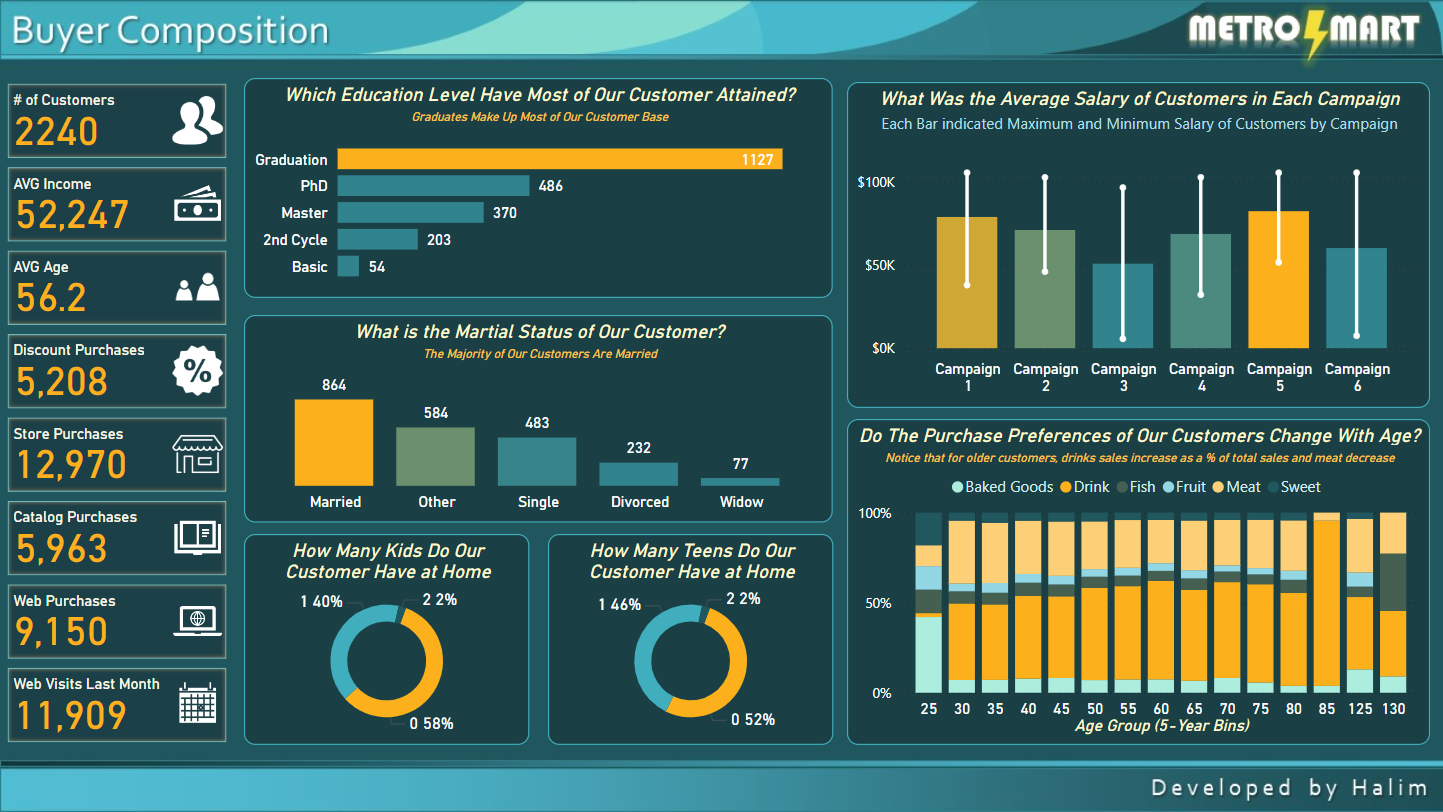

The page's visual inventory and layout, read from the dashboard file:
{"tool":"powerbi","page":{"name":"Buyer Composition","canvas":[1280,720],"ordinal":1},"visuals":[{"type":"barChart","title":"Which Education Level Have Most of Our Customer Attained?","fields":{"Category":["1 2 marketmindz_research_data.Education"],"Y":["CountNonNull(1 2 marketmindz_research_data.ID)"]},"box":[216.4,69.2,522.3,195.1],"z":0},{"type":"columnChart","title":"What Was the Average Salary of Customers in Each Campaign","fields":{"Category":["Campaign.Campaign"],"Y":["Avg(1 2 marketmindz_research_data. Income )"]},"box":[751,72.7,516.9,289.1],"z":1000},{"type":"columnChart","title":"What is the Martial Status of Our Customer?","fields":{"Category":["1 2 marketmindz_research_data.Marital_Status"],"Y":["CountNonNull(1 2 marketmindz_research_data.ID)"]},"box":[216.4,279.3,522.3,184.4],"z":2000},{"type":"donutChart","title":"How Many Kids Do Our Customer Have at Home","fields":{"Y":["CountNonNull(1 2 marketmindz_research_data.ID)"],"Category":["1 2 marketmindz_research_data.Kidhome"]},"box":[216.4,473.5,253,187.1],"z":3000},{"type":"donutChart","title":"How Many Teens Do Our Customer Have at Home","fields":{"Y":["CountNonNull(1 2 marketmindz_research_data.ID)"],"Category":["1 2 marketmindz_research_data.Teenhome"]},"box":[485.9,473.5,253,187.1],"z":4000},{"type":"hundredPercentStackedColumnChart","title":"Do The Purchase Preferences of Our Customers Change With Age?","fields":{"Y":["Sum(Products.Sales)"],"Series":["Products.Product"],"Category":["1 2 marketmindz_research_data.Age (Groups)"]},"box":[751,371.5,516.9,289.1],"z":5000},{"type":"cardVisual","fields":{"Data":["CountNonNull(1 2 marketmindz_research_data.ID)","Avg(1 2 marketmindz_research_data. Income )","Avg(1 2 marketmindz_research_data.Age)","Sum(1 2 marketmindz_research_data.Purchased - Deal)","Sum(1 2 marketmindz_research_data.Purchased - Store)","Sum(1 2 marketmindz_research_data.Purchased - Catalog)","Sum(1 2 marketmindz_research_data.Purchased - Web)","Sum(1 2 marketmindz_research_data.Web Visits Last Month)"]},"box":[1.8,69.2,204.8,595],"z":6000}]}

Visuals, with their boxes in screenshot pixels (x1, y1, x2, y2), scaled from the page's 1280x720 canvas onto the 1443x812 screenshot:
"Which Education Level Have Most of Our Customer Attained?" barChart: BBox(244, 78, 833, 298)
"What Was the Average Salary of Customers in Each Campaign" columnChart: BBox(847, 82, 1429, 408)
"What is the Martial Status of Our Customer?" columnChart: BBox(244, 315, 833, 523)
"How Many Kids Do Our Customer Have at Home" donutChart: BBox(244, 534, 529, 745)
"How Many Teens Do Our Customer Have at Home" donutChart: BBox(548, 534, 833, 745)
"Do The Purchase Preferences of Our Customers Change With Age?" hundredPercentStackedColumnChart: BBox(847, 419, 1429, 745)
cardVisual - CountNonNull(1 2 marketmindz_research_data.ID) x Avg(1 2 marketmindz_research_data. Income ): BBox(2, 78, 233, 749)
